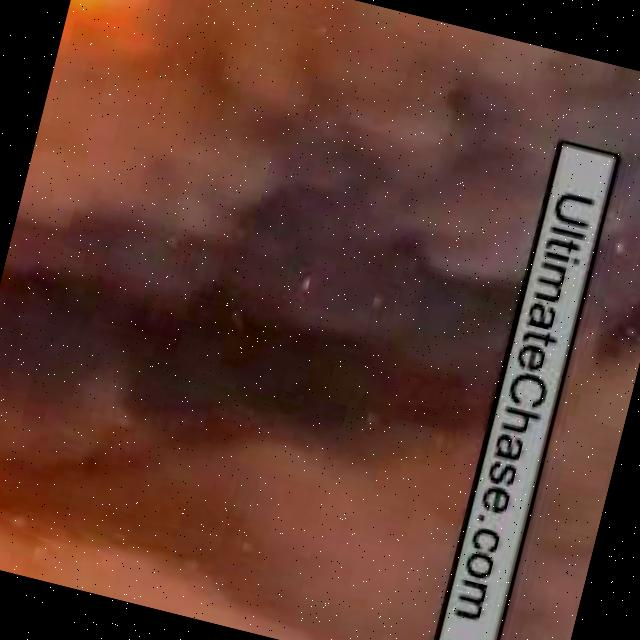fire: (54, 0, 201, 92)
